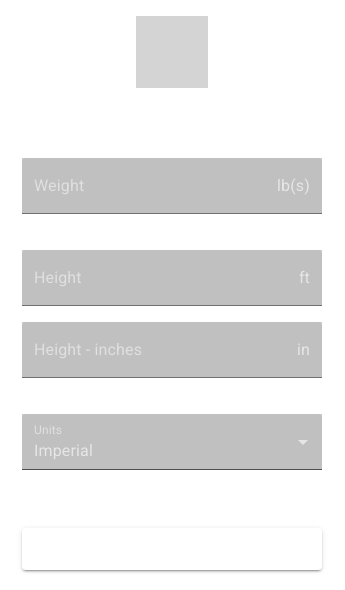
rerenders weight with updated value after switch units
Expected: the field with test id "Height" is empty, [22,250,291,306]
type 1000 into weight text field
Step 1. Type "1000" into the field with test id "Weight" → [146, 186], box [22,158,269,214]
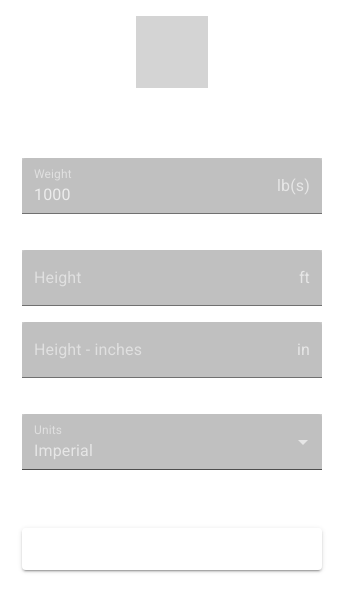
Expected: the field with test id "Height" is empty, [22,250,291,306]
select metric in the units dropdown
Step 2. Press the mouse on the dropdown labelled "Imperial" → [64, 450], box [34,441,93,460]
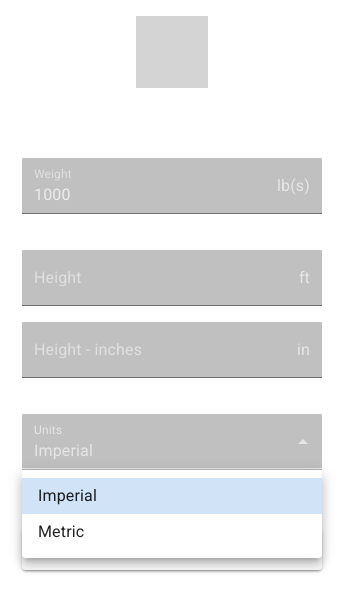
Step 3. Click the option "Metric" → [61, 532], box [38,522,84,541]
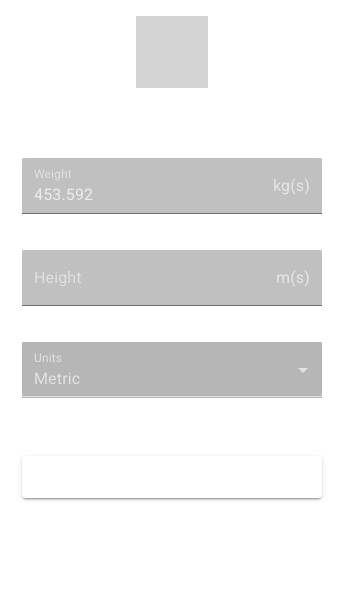
Expected: the field with test id "Height" is empty, [22,250,268,306]
Expected: the field with test id "Weight" holds "453.592", [22,158,265,214]
